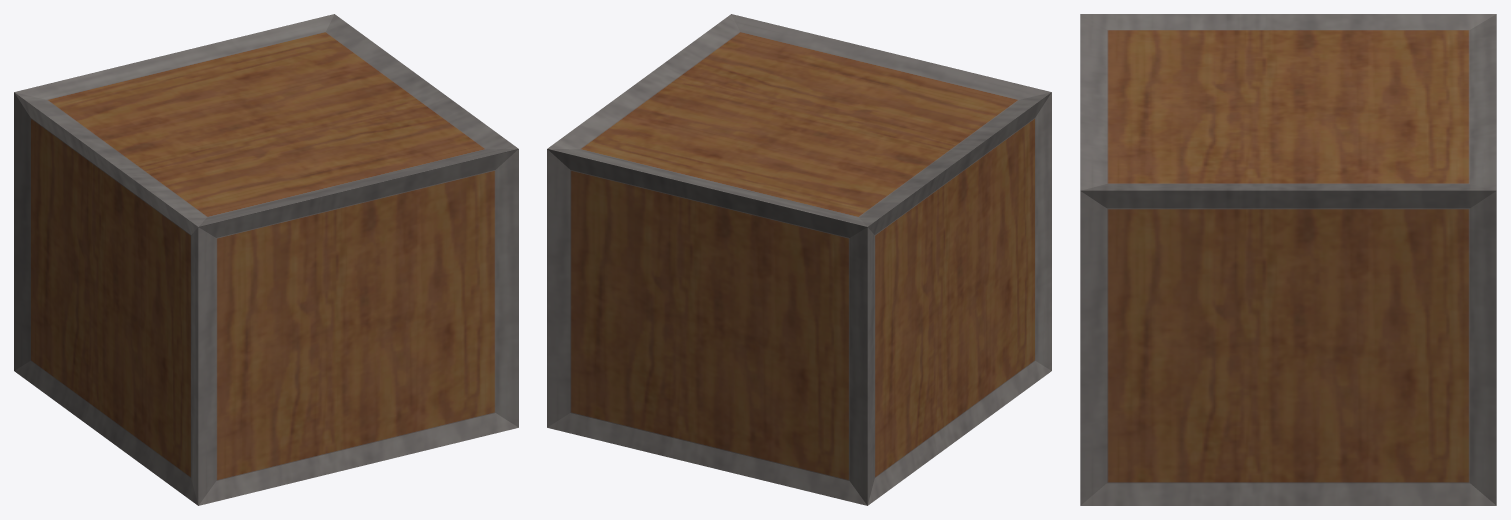
The model's file is box_sprite.glb.
3 renders of one model, left to right at view 1: azimuth 30°, elevation 25°; view 2: azimuth 150°, elevation 25°; view 3: azimuth 270°, elevation 25°, orthographic. The views are drawn at different scales.
Parts seen in each view (by area): view 1: Cube; view 2: Cube; view 3: Cube.
Part boxes in pixels (bbox=[...]): Cube: bbox=[14, 14, 518, 505]; Cube: bbox=[547, 14, 1051, 505]; Cube: bbox=[1080, 14, 1496, 505].
Bounding box in the file's own units: 1.22 × 1.01 × 1.21.
1 material, 1 textured.
